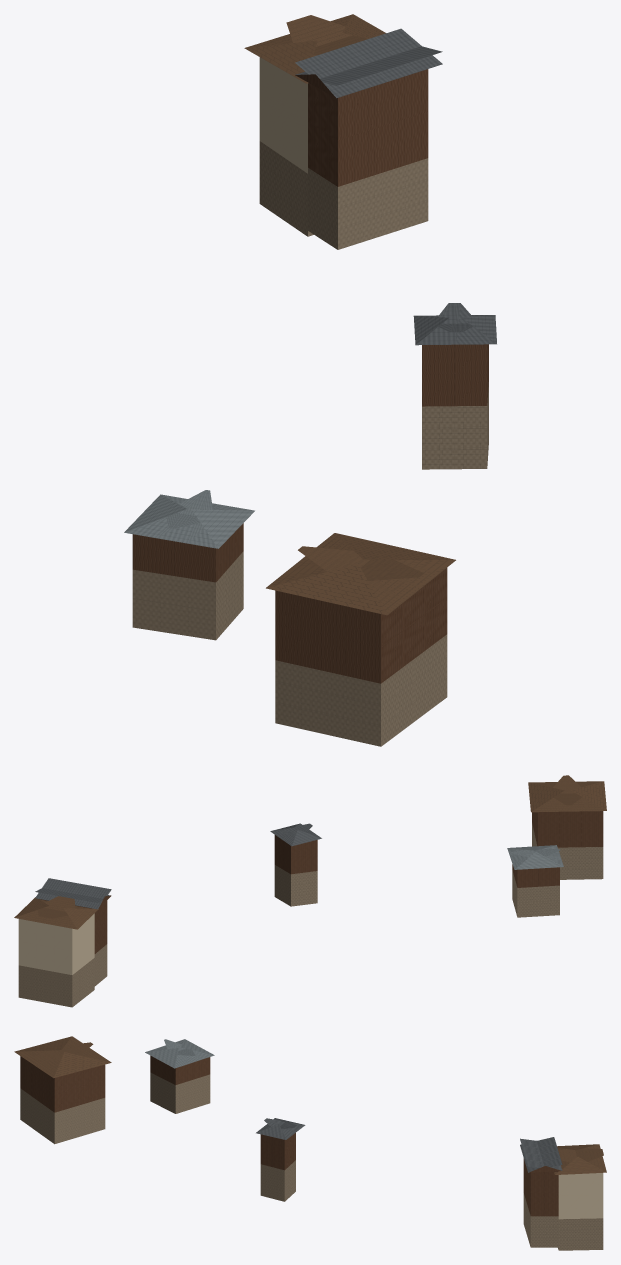
The model's file is bld_c38_-12_537.gltf.
3 views of the same model, one above another, from view 1: azimuth 30°, elevation 25°; view 2: azimuth 150°, elevation 25°; view 3: azimuth 270°, elevation 25° (orthographic). The views are drawn at different scales.
Parts seen in each view (by area): view 1: bld_c38_-12_537; view 2: bld_c38_-12_537; view 3: bld_c38_-12_537.
Part boxes in pixels (x1,y1,x2,y2): bld_c38_-12_537: [124, 14, 496, 746]; bld_c38_-12_537: [14, 775, 606, 1007]; bld_c38_-12_537: [14, 1036, 606, 1250].
Bounding box in the file's own units: 56.09 × 14.9 × 86.95.
Materials: 7 (7 with a texture image).
